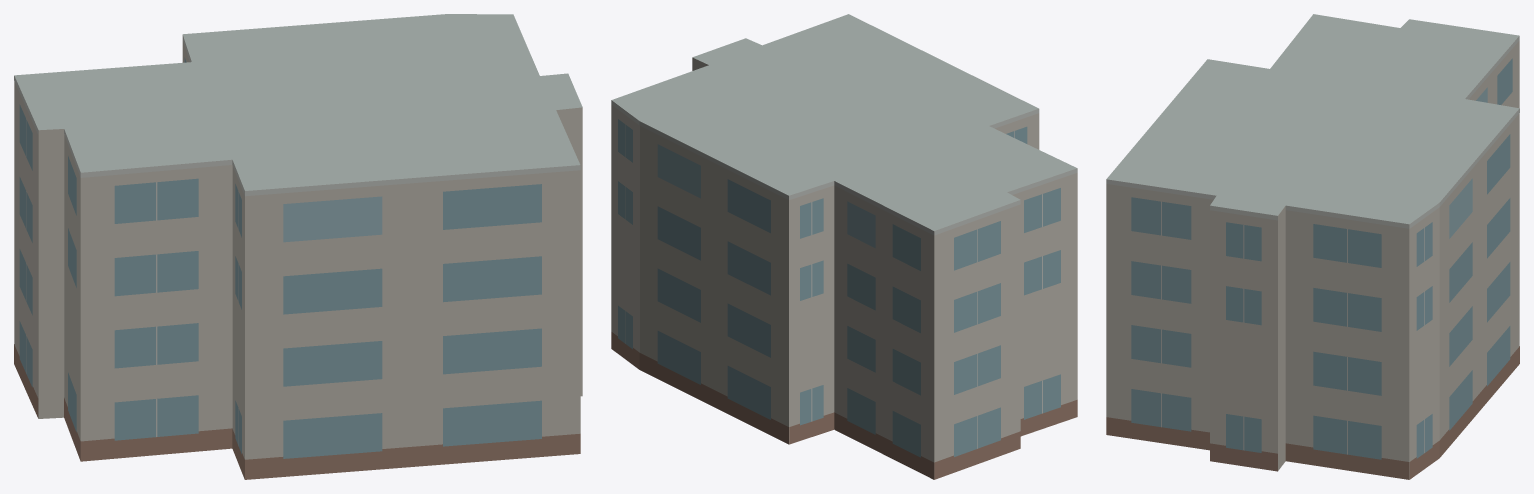
File: survey-upis-32490349.glb
3 renders of one model, left to right at view 1: azimuth 30°, elevation 25°; view 2: azimuth 150°, elevation 25°; view 3: azimuth 270°, elevation 25°, orthographic. The views are drawn at different scales.
Visible parts, largest first — view 1: survey-upis-32490349.tmp; view 2: survey-upis-32490349.tmp; view 3: survey-upis-32490349.tmp.
Part boxes in pixels (x1,y1,x2,y2): survey-upis-32490349.tmp: (14,14,582,479); survey-upis-32490349.tmp: (611,14,1077,479); survey-upis-32490349.tmp: (1106,14,1519,479).
Bounding box in the file's own units: 24.01 × 13.6 × 19.95.
